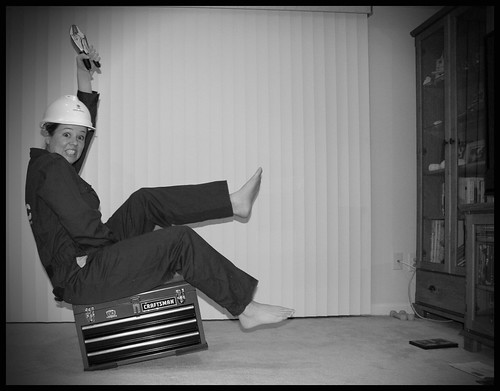person hardhat: (24, 23, 299, 333)
